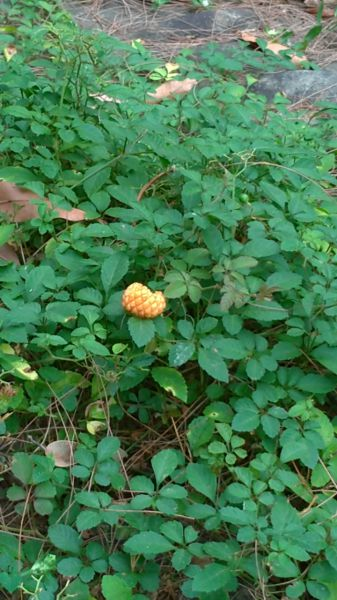eggs: (116, 272, 170, 324)
